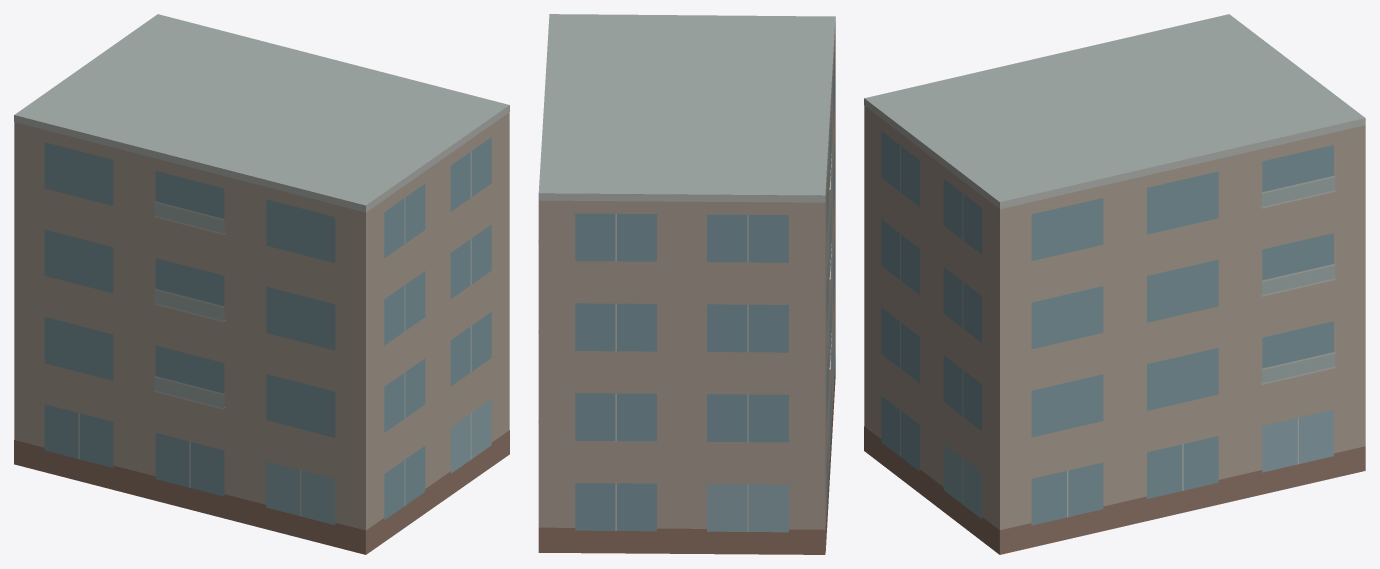
File: survey-upis-32886693.glb
The picture shows the model from 3 angles, left to right: view 1: azimuth 30°, elevation 25°; view 2: azimuth 150°, elevation 25°; view 3: azimuth 270°, elevation 25°; orthographic projection. The views are drawn at different scales.
Parts seen in each view (by area): view 1: survey-upis-32886693.tmp; view 2: survey-upis-32886693.tmp; view 3: survey-upis-32886693.tmp.
Boxes of the visible parts, x1=… form: survey-upis-32886693.tmp: x1=14, y1=14, x2=509, y2=554; survey-upis-32886693.tmp: x1=538, y1=14, x2=835, y2=554; survey-upis-32886693.tmp: x1=864, y1=14, x2=1365, y2=554.
Size of the model in its own units: 13.87 by 12.11 by 15.61.
